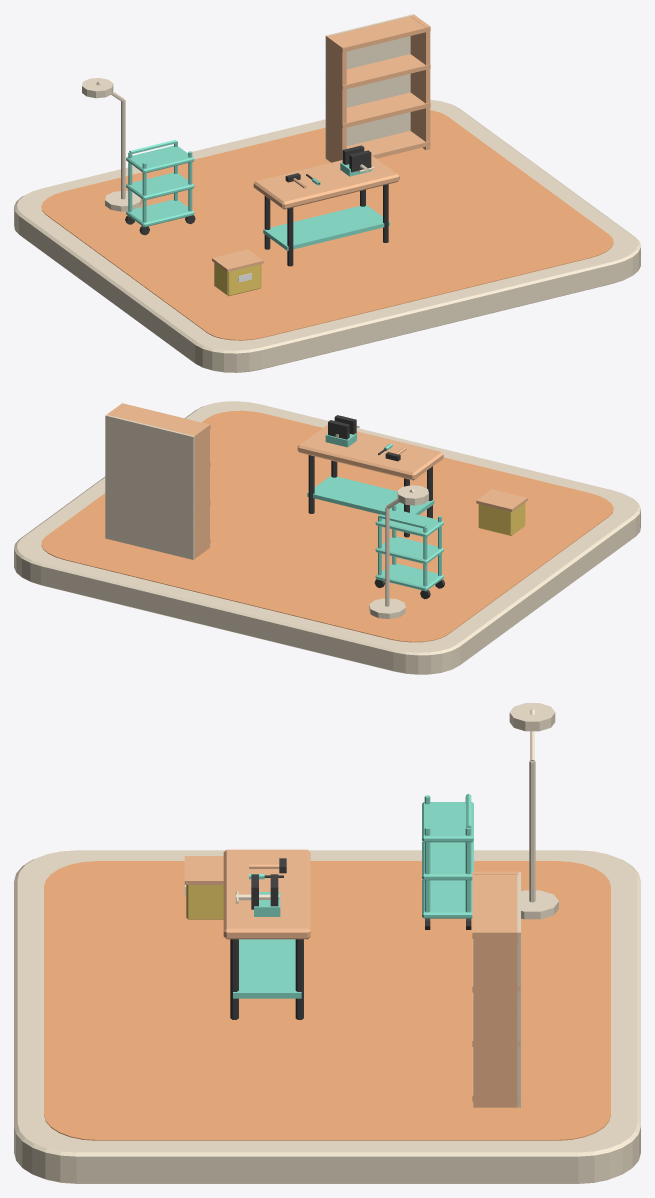
3 views of the same model, one above another, from view 1: azimuth 30°, elevation 25°; view 2: azimuth 150°, elevation 25°; view 3: azimuth 270°, elevation 25° (orthographic). The views are drawn at different scales.
Visible parts, largest first — view 1: COM-02 Floor Surface, COM-01 Rounded Base Direct, Back, Worktop, Lower shelf, Side, Side.001, Shelf.003, Shelf.001, Shelf.002, Shelf, Tray.002 (+6 smaller); view 2: COM-02 Floor Surface, COM-01 Rounded Base Direct, Back, Worktop, Lower shelf, Side, Shelf.003, Box, Tray.001, Tray, Tray.002, Lid (+4 smaller); view 3: COM-02 Floor Surface, COM-01 Rounded Base Direct, Side.001, Worktop, Lower shelf, Shelf.003, Tray.002, Tray.001, Tray, Box, Lid, Lamp head (+5 smaller).
Part boxes in pixels (bbox=[...]): COM-02 Floor Surface: bbox=[41, 110, 613, 340]; COM-01 Rounded Base Direct: bbox=[14, 99, 640, 372]; Back: bbox=[325, 14, 413, 158]; Worktop: bbox=[253, 155, 399, 209]; Lower shelf: bbox=[263, 204, 389, 250]; Side: bbox=[326, 35, 346, 162]; Side.001: bbox=[410, 14, 430, 150]; Shelf.003: bbox=[325, 16, 430, 52]; Shelf.001: bbox=[325, 92, 430, 128]; Shelf.002: bbox=[326, 54, 430, 89]; Shelf: bbox=[325, 131, 430, 161]; Tray.002: bbox=[126, 145, 194, 173]; COM-02 Floor Surface: bbox=[41, 410, 613, 642]; COM-01 Rounded Base Direct: bbox=[14, 401, 640, 674]; Back: bbox=[105, 414, 194, 559]; Worktop: bbox=[297, 424, 443, 480]; Lower shelf: bbox=[307, 475, 434, 515]; Side: bbox=[190, 424, 209, 558]; Shelf.003: bbox=[111, 403, 210, 439]; Box: bbox=[478, 503, 525, 535]; Tray.001: bbox=[375, 536, 443, 564]; Tray: bbox=[375, 563, 443, 591]; Tray.002: bbox=[375, 509, 443, 537]; Lid: bbox=[476, 489, 527, 511]; COM-02 Floor Surface: bbox=[44, 861, 610, 1140]; COM-01 Rounded Base Direct: bbox=[14, 850, 640, 1183]; Side.001: bbox=[473, 929, 519, 1107]; Worktop: bbox=[223, 849, 310, 939]; Lower shelf: bbox=[233, 939, 301, 998]; Shelf.003: bbox=[472, 871, 519, 938]; Tray.002: bbox=[422, 802, 473, 842]; Tray.001: bbox=[422, 841, 473, 880]; Tray: bbox=[422, 880, 472, 918]; Box: bbox=[186, 885, 223, 919]; Lid: bbox=[184, 856, 223, 884]; Lamp head: bbox=[509, 703, 555, 731].
Size of the model in its own units: 6 by 1.96 by 5.2.
Materials: 1 (1 with a texture image).
